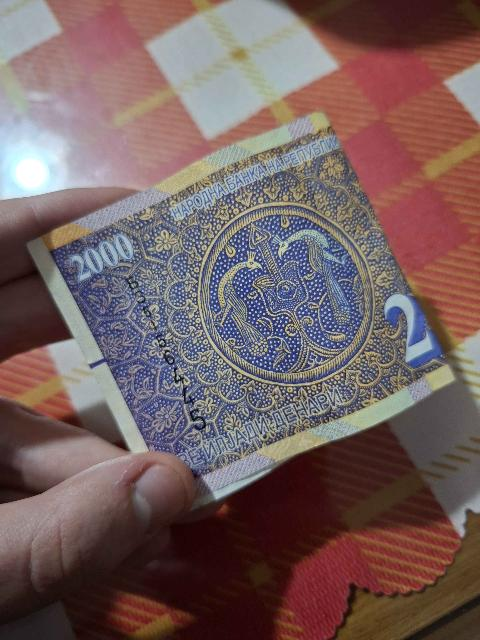2000_note: (30, 114, 452, 505)
